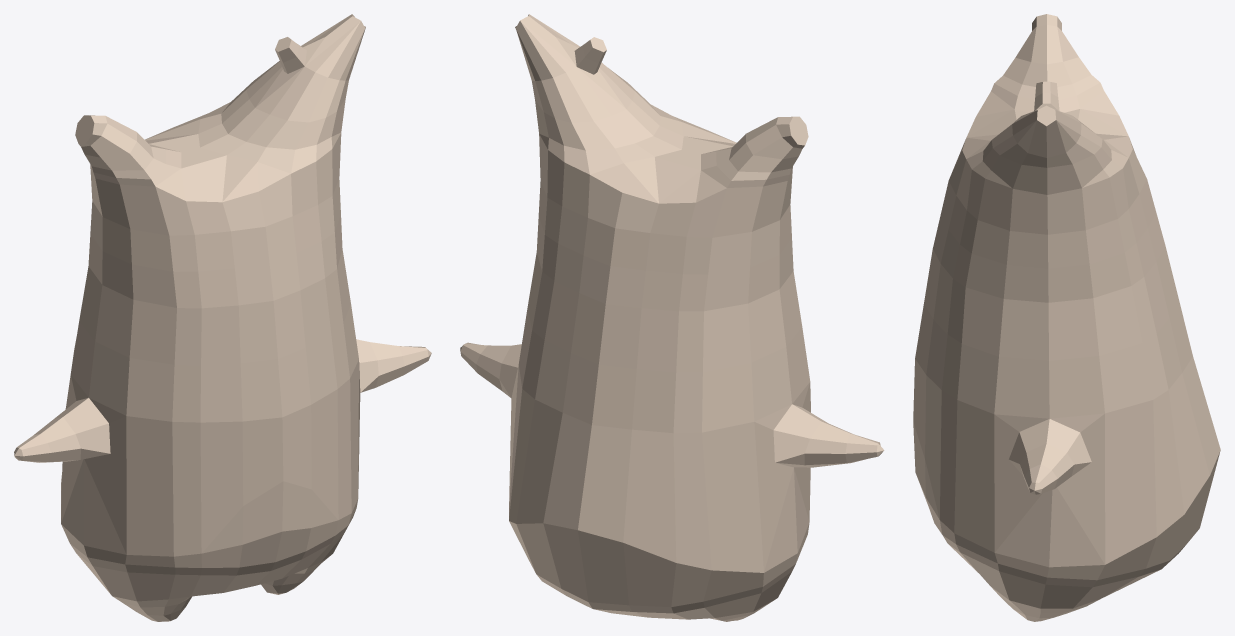
File: frame_0096.obj
The picture shows the model from 3 angles, left to right: view 1: azimuth 30°, elevation 25°; view 2: azimuth 150°, elevation 25°; view 3: azimuth 270°, elevation 25°; orthographic projection.
Parts seen in each view (by area): view 1: korok; view 2: korok; view 3: korok.
Part boxes in pixels (<box>): korok: <box>14,14,431,621</box>; korok: <box>460,14,884,621</box>; korok: <box>913,14,1220,621</box>.
Bounding box in the file's own units: 1.66 × 2.1 × 1.06.
